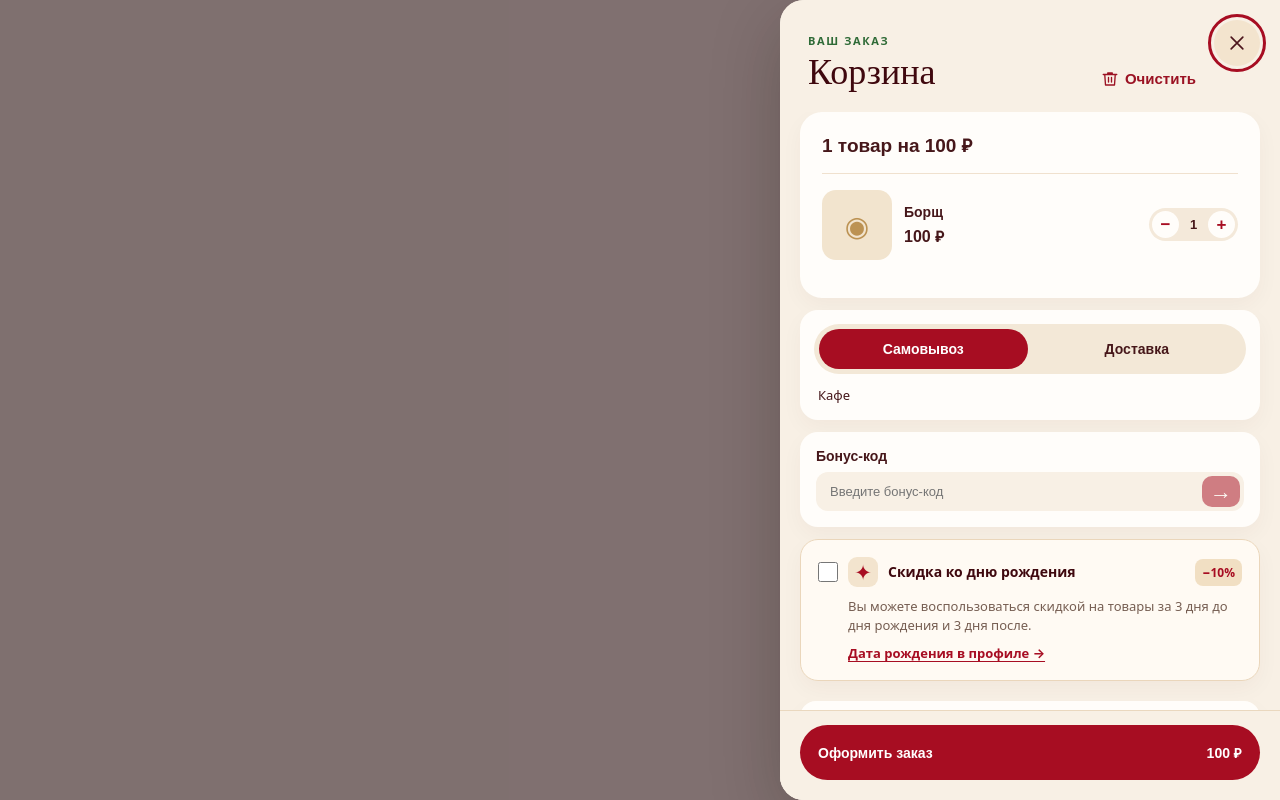
Scenario: отключение акции отменяет выбранную скидку и игнорирует запоздавший расчёт с ней
Click the checkbox labelled "✦ Скидка ко дню рождения −10%" at (828, 572), box [818,562,838,582]
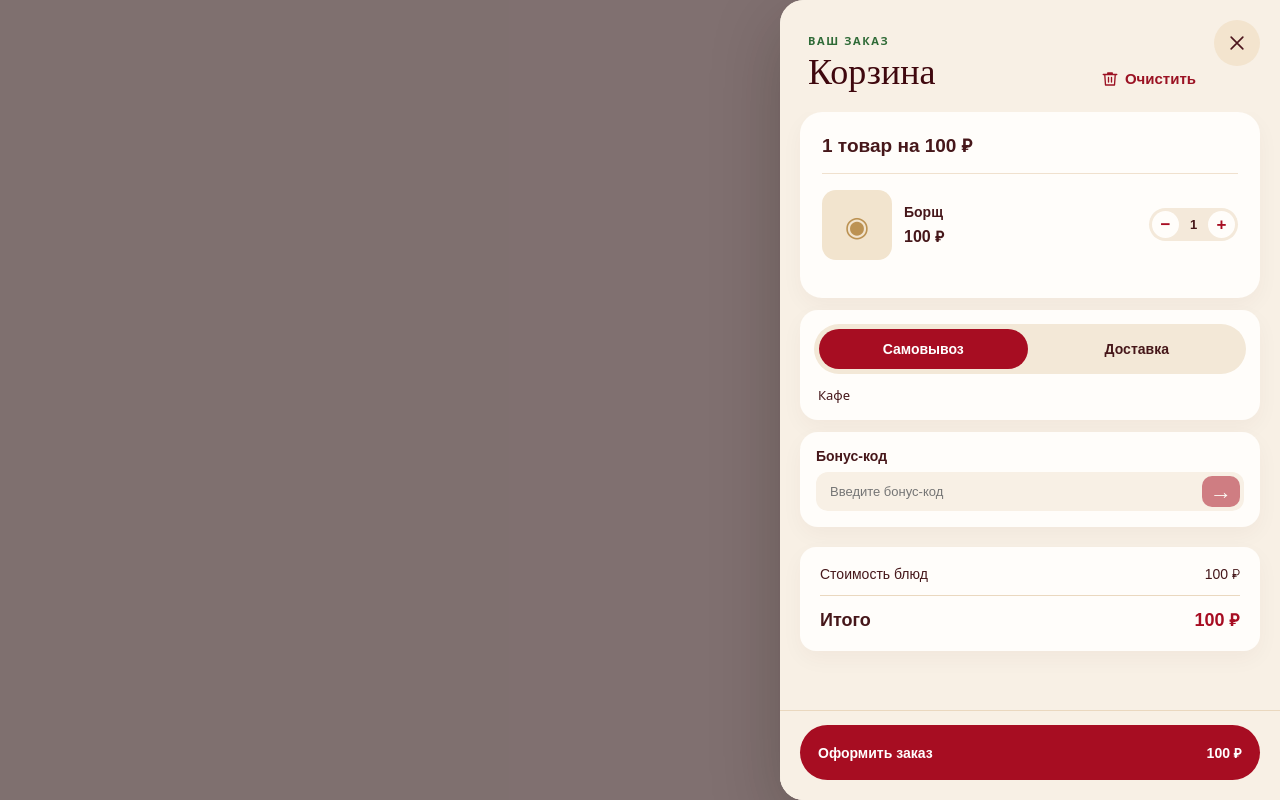
Expected: the button "Оформить заказ 100 ₽" is enabled, [800,725,1260,780]
Now the text "Скидка ко дню рождения" is gone
